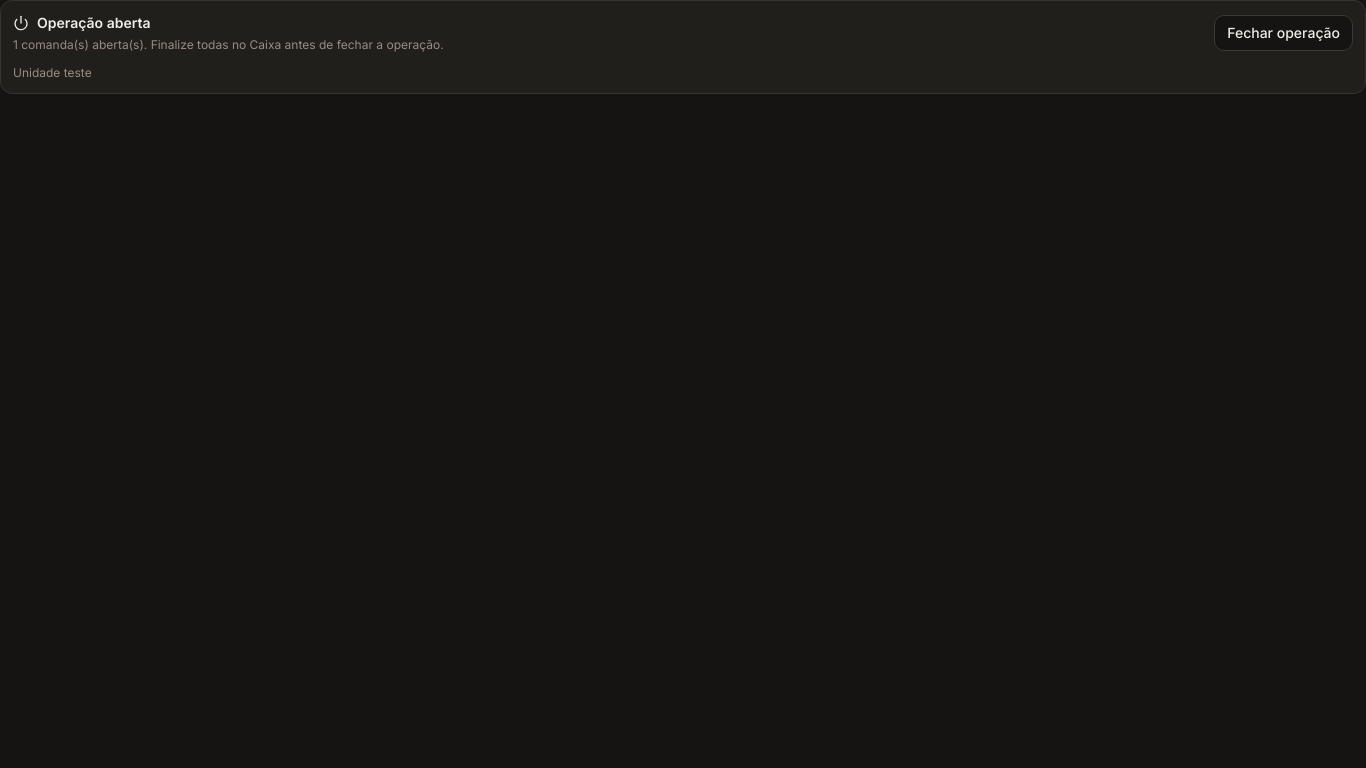
Test case: operation buttons › requires confirmation and blocks closing while comandas remain open
Later steps or results of the test are not shown.
What coordinates should you click on to do the following:
click the button "Fechar operação"
I would click on:
 (1284, 33)
Its box is [1214,15,1353,51].
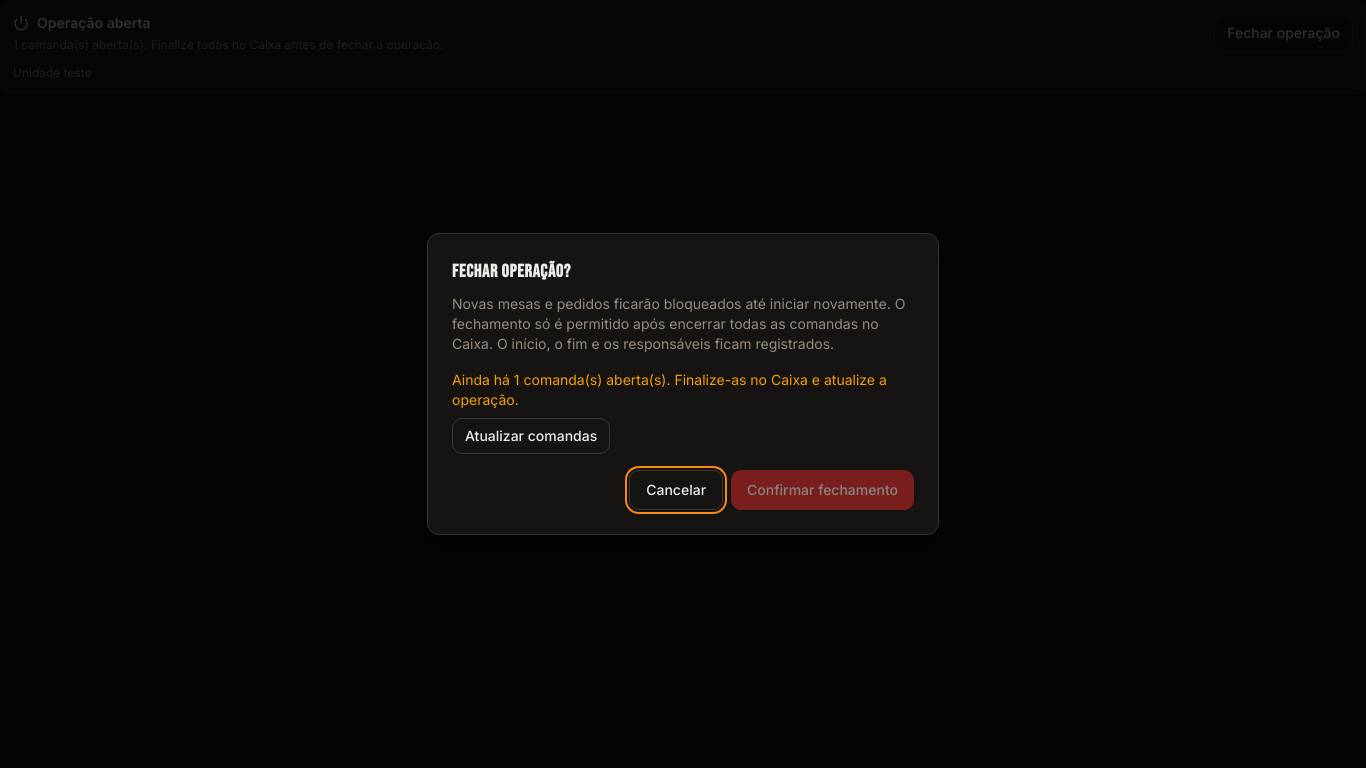
Expected: the button "Confirmar fechamento" is disabled, [731,470,914,510]
